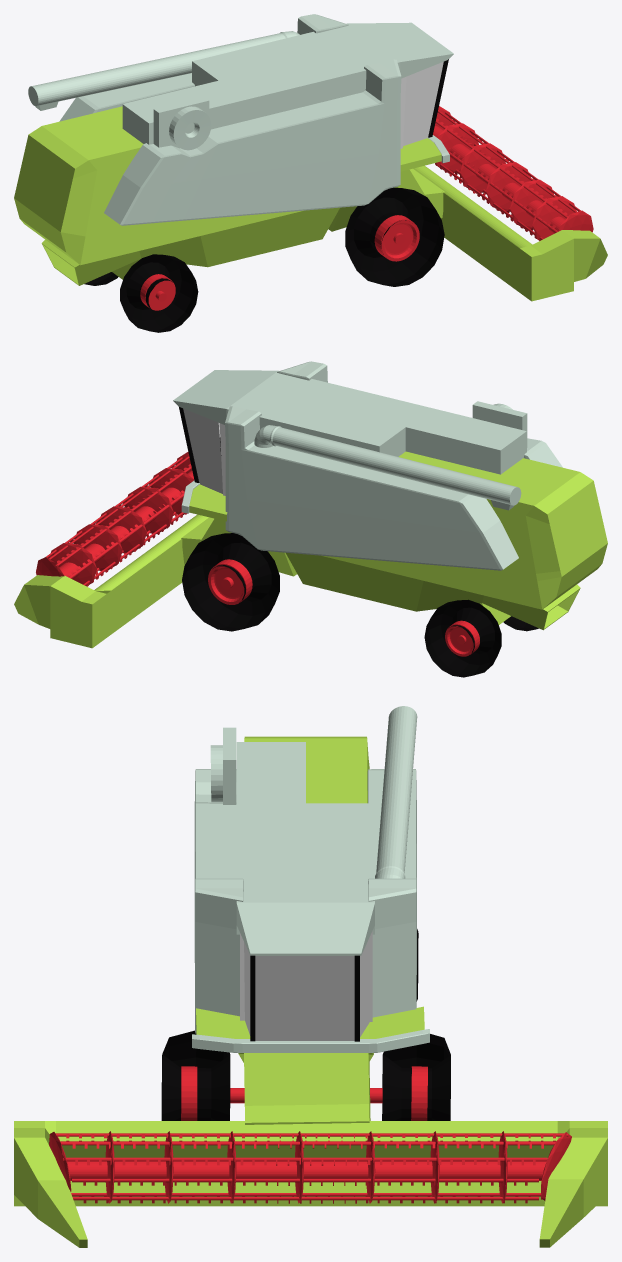
The model's file is low Poly combine V2.fbx.
3 renders of one model, top to bottom at view 1: azimuth 30°, elevation 25°; view 2: azimuth 150°, elevation 25°; view 3: azimuth 270°, elevation 25°, orthographic. The views are drawn at different scales.
Visible parts, largest first — view 1: side panels, chassis, roof and tank doors, tynes 1.007, header main part, wheel front left, wheel back left, feeder arm, glass left side, feeder cylinder, fan, fan background; view 2: side panels, chassis, roof and tank doors, header main part, tynes 1.007, wheel front right, feeder arm, wheel back right, glass right side, feeder cylinder, fan background; view 3: header main part, roof and tank doors, tynes 1.007, side panels, chassis, windshield, wheel front left, wheel front right, feeder arm, front bevel, fan background, glass right side (+1 smaller).
Part boxes in pixels (left/top/right/bottom): side panels: left=59, top=14, right=401, bottom=225; chassis: left=14, top=106, right=445, bottom=285; roof and tank doors: left=122, top=22, right=453, bottom=144; tynes 1.007: left=433, top=106, right=593, bottom=240; header main part: left=441, top=192, right=607, bottom=301; wheel front left: left=345, top=187, right=444, bottom=286; wheel back left: left=120, top=254, right=198, bottom=332; feeder arm: left=28, top=31, right=299, bottom=110; glass left side: left=403, top=62, right=443, bottom=145; feeder cylinder: left=413, top=165, right=532, bottom=248; fan: left=169, top=106, right=211, bottom=150; fan background: left=153, top=97, right=209, bottom=148; side panels: left=225, top=361, right=562, bottom=570; chassis: left=181, top=451, right=607, bottom=630; roof and tank doors: left=173, top=370, right=526, bottom=474; header main part: left=14, top=539, right=184, bottom=648; tynes 1.007: left=36, top=452, right=194, bottom=586; wheel front right: left=182, top=533, right=279, bottom=631; feeder arm: left=254, top=425, right=521, bottom=510; wheel back right: left=424, top=599, right=501, bottom=677; glass right side: left=183, top=408, right=222, bottom=493; feeder cylinder: left=94, top=514, right=208, bottom=590; fan background: left=472, top=401, right=527, bottom=447; header main part: left=14, top=1121, right=607, bottom=1247; roof and tank doors: left=236, top=742, right=374, bottom=955; tynes 1.007: left=49, top=1131, right=571, bottom=1203; side panels: left=194, top=769, right=416, bottom=1033; chassis: left=196, top=736, right=424, bottom=1124; windshield: left=255, top=956, right=354, bottom=1040; wheel front left: left=161, top=1030, right=230, bottom=1120; wheel front right: left=382, top=1034, right=450, bottom=1120; feeder arm: left=375, top=706, right=417, bottom=878; front bevel: left=192, top=1029, right=429, bottom=1052; fan background: left=223, top=727, right=236, bottom=804; glass right side: left=360, top=932, right=371, bottom=1036.
Bounding box in the file's own units: 2280 × 981 × 1849.
